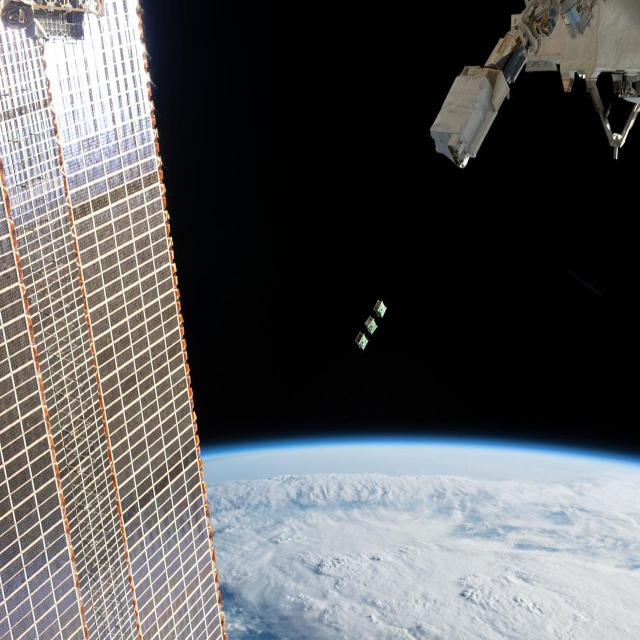medium_debris: (9, 15, 235, 640), (434, 0, 640, 182), (352, 286, 396, 352)
